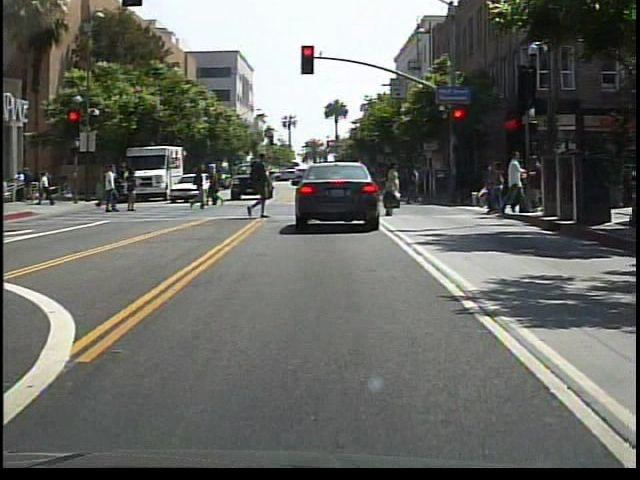person: (244, 149, 278, 224), (494, 149, 528, 215), (381, 161, 403, 218), (103, 164, 126, 217), (93, 166, 116, 213), (191, 168, 210, 215), (208, 165, 226, 209), (124, 169, 139, 214)
